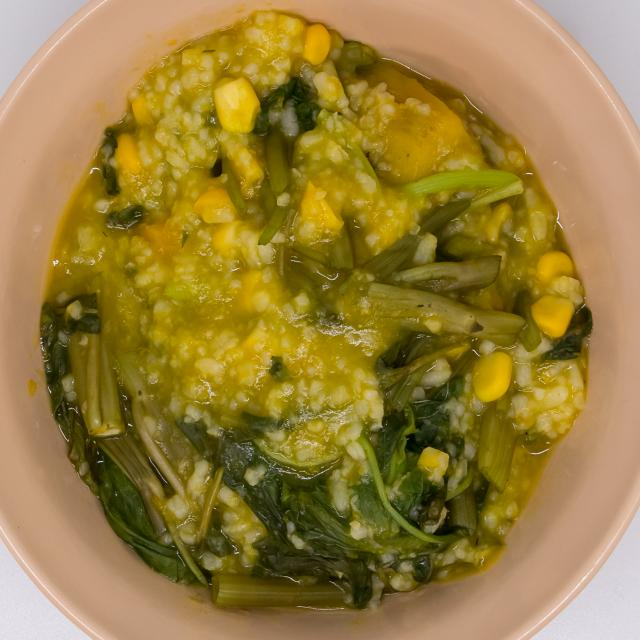Bubur-Manado: (28, 11, 598, 619)
